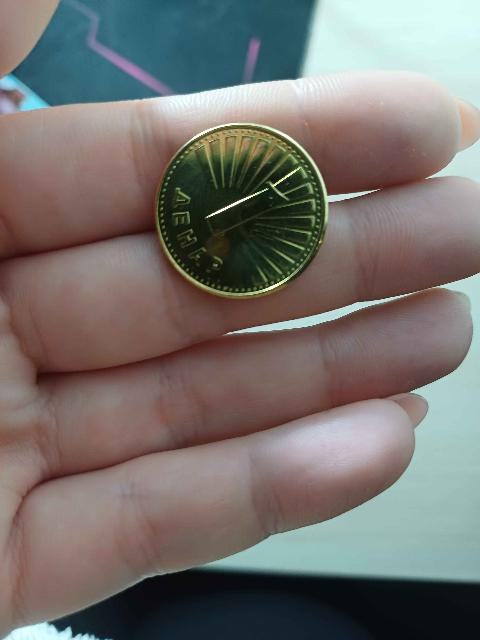1_coin: (156, 124, 327, 297)
